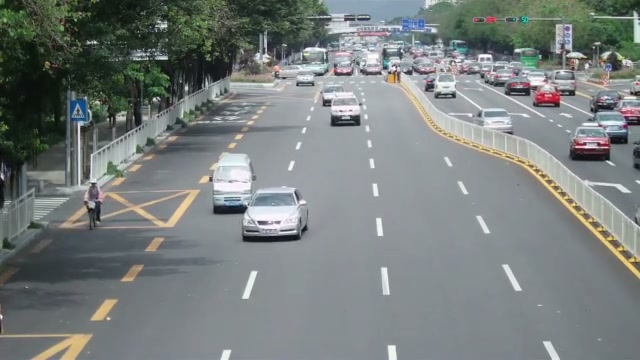bus: (302, 47, 329, 76)
car: (240, 186, 309, 242), (211, 152, 257, 213), (569, 125, 612, 161), (468, 107, 514, 134), (594, 111, 629, 143), (329, 94, 361, 126), (589, 90, 622, 113), (614, 97, 640, 125), (533, 84, 562, 107), (433, 73, 456, 99), (320, 84, 346, 106), (504, 78, 531, 96), (295, 70, 315, 87)
pedestrian: (85, 181, 104, 225)
truck: (332, 52, 354, 76)
